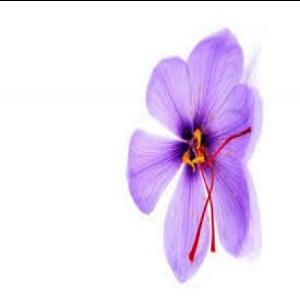Saffron: (125, 27, 260, 280)
